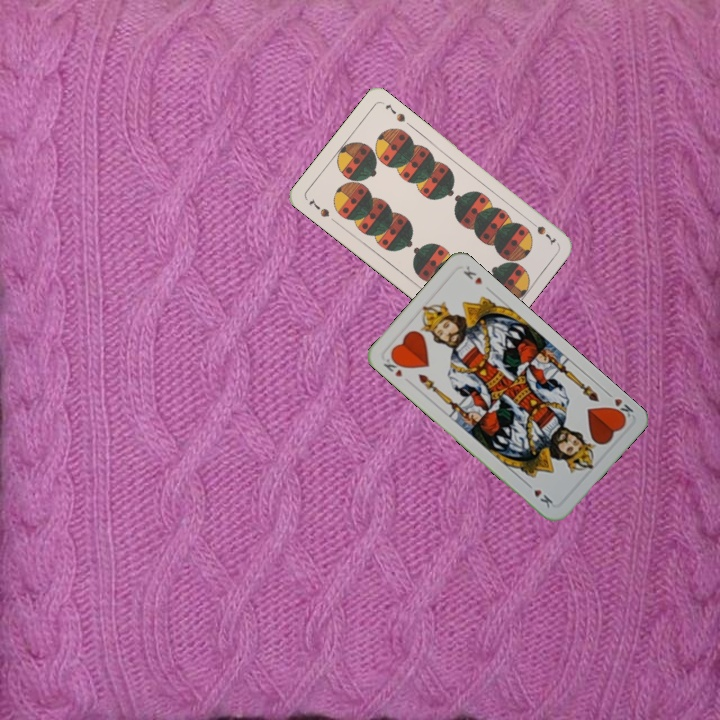HK: (602, 387, 636, 423), (379, 351, 407, 380)
S7: (525, 216, 558, 248), (305, 194, 332, 220)
